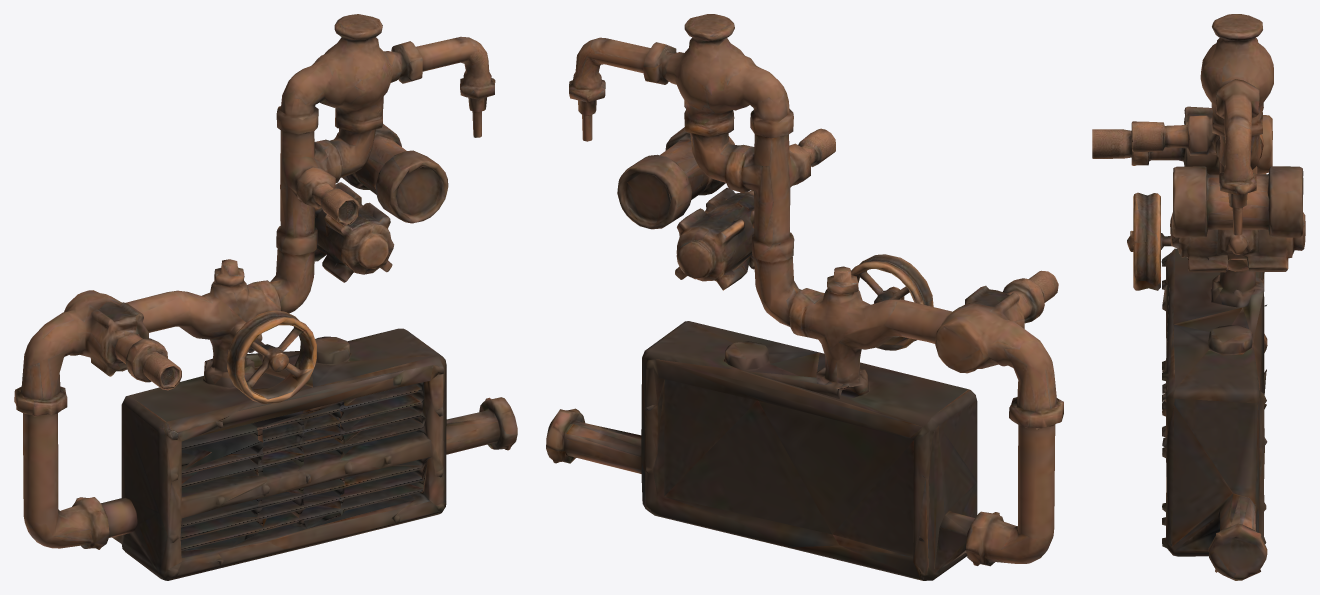
Rendered from pipe_vent.glb.
3 views of the same model, side by side, from view 1: azimuth 30°, elevation 25°; view 2: azimuth 150°, elevation 25°; view 3: azimuth 270°, elevation 25° (orthographic). The views are drawn at different scales.
Size of the model in its own units: 1.9 by 1.79 by 0.6811.
Materials: 1 (1 with a texture image).
